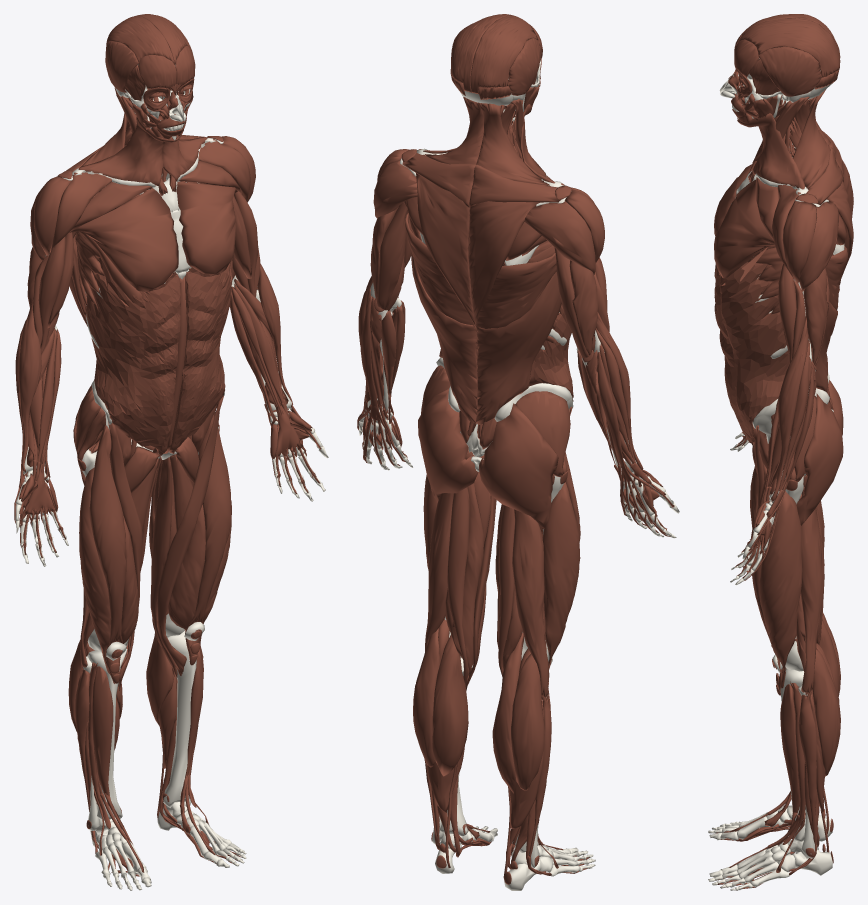
Rendered from z-anatomy-muscles-mobile.glb.
3 views of the same model, side by side, from view 1: azimuth 30°, elevation 25°; view 2: azimuth 150°, elevation 25°; view 3: azimuth 270°, elevation 25° (orthographic). The views are drawn at different scales.
Parts seen in each view (by area): view 1: External abdominal oblique muscle.012, External abdominal oblique muscle, Sternocostal head of pectoralis major muscle.007, Rectus femoris muscle.001, Sternocostal head of pectoralis major muscle.006, Rectus femoris muscle, Sartorius muscle, Vastus lateralis muscle.003, Platysma.001, Tibia.002, Vastus medialis muscle, Gracilis muscle.002 (+45 smaller); view 2: Latissimus dorsi muscle.005, Gluteus maximus muscle.005, Latissimus dorsi muscle.002, Descending part of trapezius muscle, Vastus lateralis muscle.003, Long head of biceps femoris.003, Descending part of trapezius muscle.003, Gluteus maximus muscle.002, Medial head of gastrocnemius, Lateral head of gastrocnemius.003, Epicranial aponeurosis.001, Scapular spinal part of deltoid muscle.003 (+34 smaller); view 3: External abdominal oblique muscle, Vastus lateralis muscle, Sternocostal head of pectoralis major muscle.006, Gluteus maximus muscle.002, Long head of biceps femoris, Epicranial aponeurosis, Temporoparietalis muscle, Lateral head of gastrocnemius, Platysma, Brachioradialis muscle.002, Acromial part of deltoid muscle, Scapular spinal part of deltoid muscle (+36 smaller).
Boxes of the visible parts, x1,y1,x2,y2 form: External abdominal oblique muscle.012: (86,258,180,446); External abdominal oblique muscle: (174,258,232,444); Sternocostal head of pectoralis major muscle.007: (69,188,178,291); Rectus femoris muscle.001: (89,425,126,683); Sternocostal head of pectoralis major muscle.006: (177,182,237,274); Rectus femoris muscle: (185,414,231,659); Sartorius muscle: (156,395,223,675); Vastus lateralis muscle.003: (79,468,110,673); Platysma.001: (78,117,174,185); Tibia.002: (163,630,196,807); Vastus medialis muscle: (168,505,205,651); Gracilis muscle.002: (150,457,177,677); Latissimus dorsi muscle.005: (475,252,561,424); Gluteus maximus muscle.005: (479,403,558,528); Latissimus dorsi muscle.002: (405,213,477,423); Descending part of trapezius muscle: (415,173,476,326); Vastus lateralis muscle.003: (542,482,580,665); Long head of biceps femoris.003: (512,509,549,697); Descending part of trapezius muscle.003: (469,201,539,327); Gluteus maximus muscle.002: (418,389,478,501); Medial head of gastrocnemius: (432,635,468,776); Lateral head of gastrocnemius.003: (511,654,544,790); Epicranial aponeurosis.001: (470,15,538,94); Scapular spinal part of deltoid muscle.003: (524,201,595,274); External abdominal oblique muscle: (714,262,789,442); Vastus lateralis muscle: (759,491,802,688); Sternocostal head of pectoralis major muscle.006: (714,179,775,278); Gluteus maximus muscle.002: (796,393,843,525); Long head of biceps femoris: (800,508,824,694); Epicranial aponeurosis: (738,18,840,77); Temporoparietalis muscle: (758,46,820,96); Lateral head of gastrocnemius: (812,648,840,776); Platysma: (737,113,804,189); Brachioradialis muscle.002: (771,316,808,501); Acromial part of deltoid muscle: (782,201,816,283); Scapular spinal part of deltoid muscle: (799,201,838,291).
Size of the model in its own units: 0.6687 by 1.7 by 0.267.
